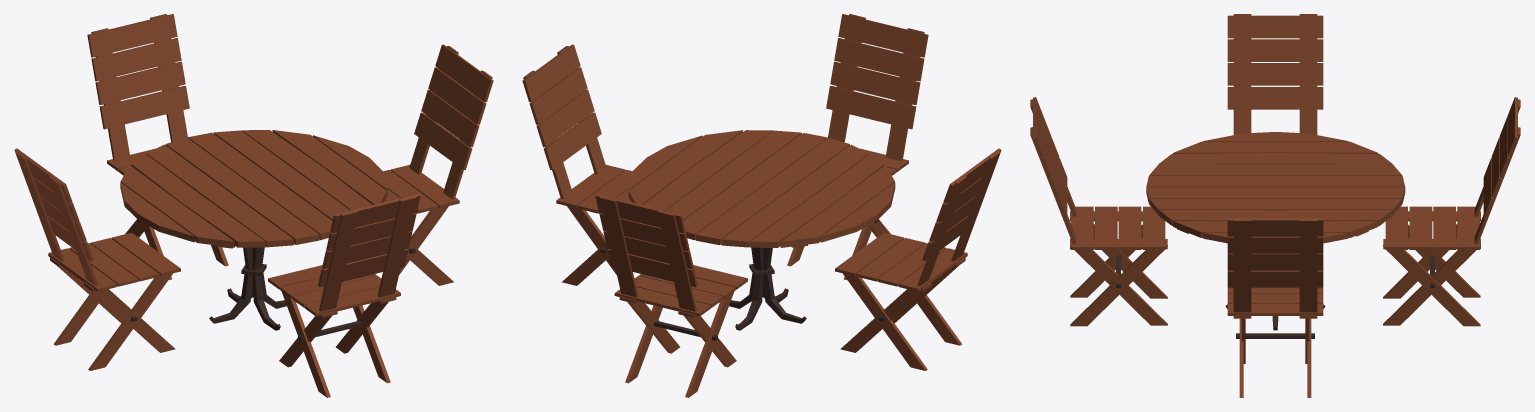
Rendered from village_pack_table_6.glb.
3 views of the same model, side by side, from view 1: azimuth 30°, elevation 25°; view 2: azimuth 150°, elevation 25°; view 3: azimuth 270°, elevation 25° (orthographic). The views are drawn at different scales.
Parts seen in each view (by area): view 1: table 6_iron 1_0; view 2: table 6_iron 1_0; view 3: table 6_iron 1_0.
Boxes of the visible parts, bbox=[...] form: table 6_iron 1_0: bbox=[14, 14, 493, 397]; table 6_iron 1_0: bbox=[522, 14, 1001, 397]; table 6_iron 1_0: bbox=[1030, 14, 1520, 397].
Size of the model in its own units: 2.08 by 0.9117 by 2.08.
